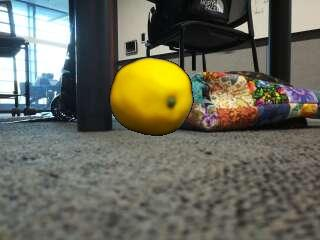lemon: (111, 58, 192, 135)
